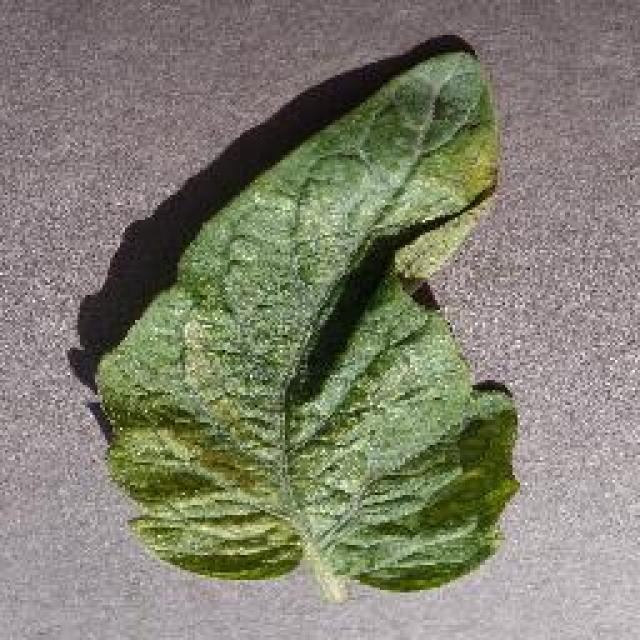Tomato___Spider_mites Two-spotted_spider_mite: (98, 50, 515, 598)
